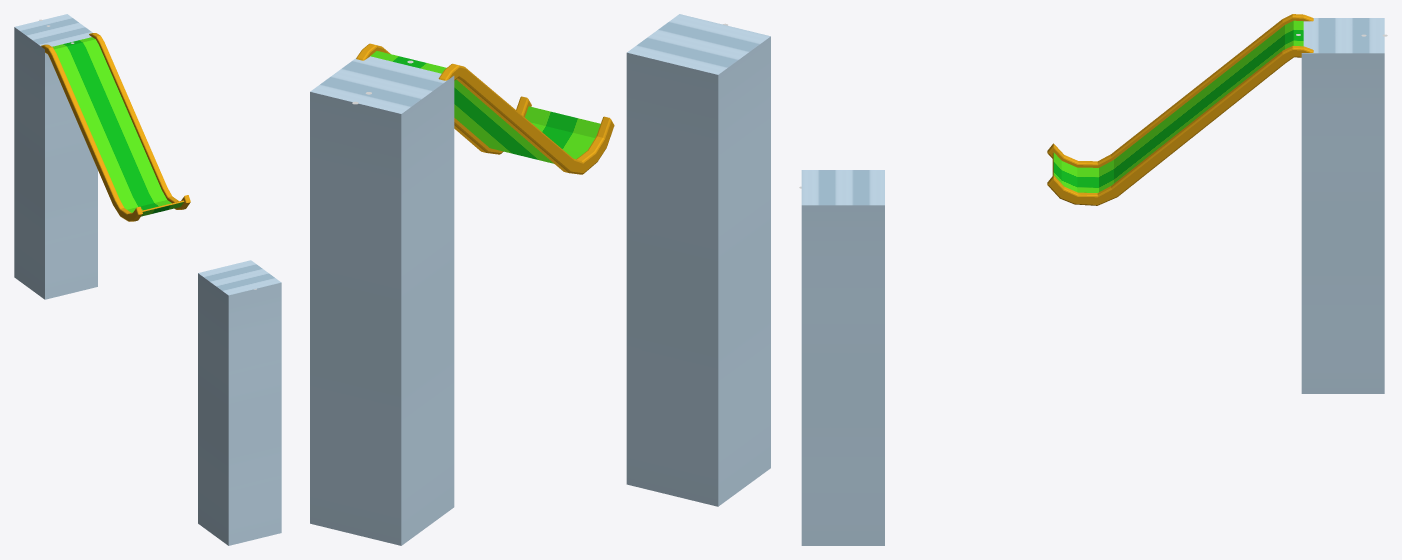
Rendered from 1_slide_platforms.fbx.
3 renders of one model, left to right at view 1: azimuth 30°, elevation 25°; view 2: azimuth 150°, elevation 25°; view 3: azimuth 270°, elevation 25°, orthographic. The views are drawn at different scales.
Parts seen in each view (by area): view 1: road.002, road, slides; view 2: road.002, road, slides; view 3: road.002, road, slides.
Boxes of the visible parts, x1=… form: road.002: x1=198, y1=260, x2=281, y2=545; road: x1=14, y1=14, x2=97, y2=299; slides: x1=41, y1=33, x2=190, y2=221; road.002: x1=626, y1=14, x2=770, y2=506; road: x1=310, y1=56, x2=454, y2=545; slides: x1=356, y1=43, x2=614, y2=174; road.002: x1=801, y1=170, x2=884, y2=545; road: x1=1301, y1=18, x2=1384, y2=393; slides: x1=1047, y1=14, x2=1313, y2=205.
Size of the model in its own units: 1214 by 7997 by 8576.
